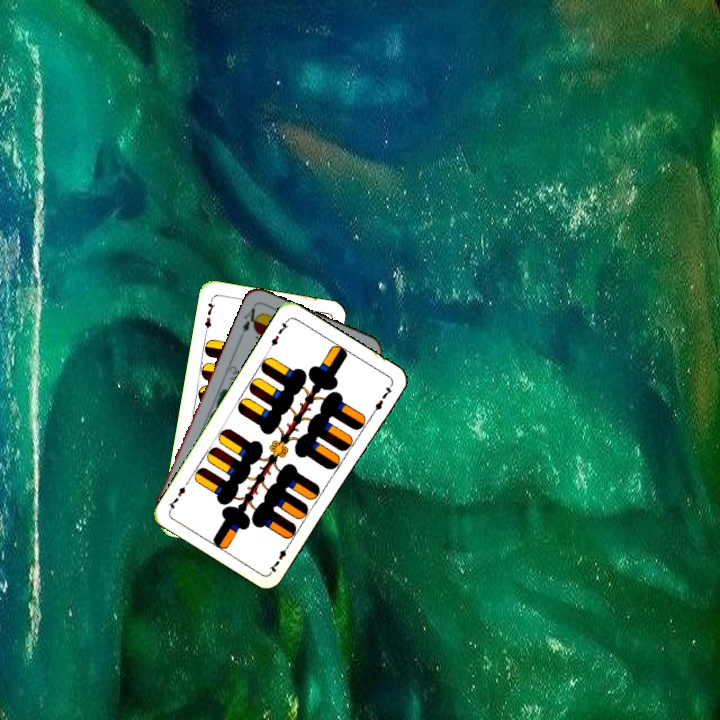E7: (264, 315, 292, 352), (265, 539, 293, 575), (201, 295, 218, 335)
EA: (238, 301, 263, 335)
